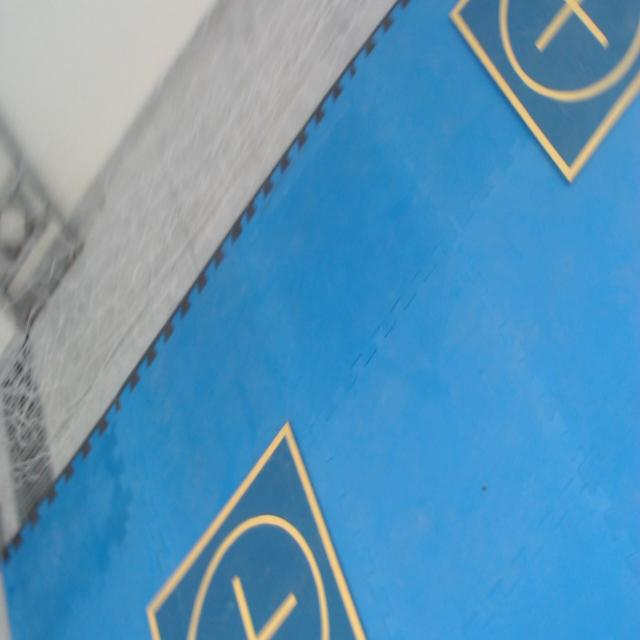base_pouso: (146, 420, 371, 639), (451, 0, 640, 186)
